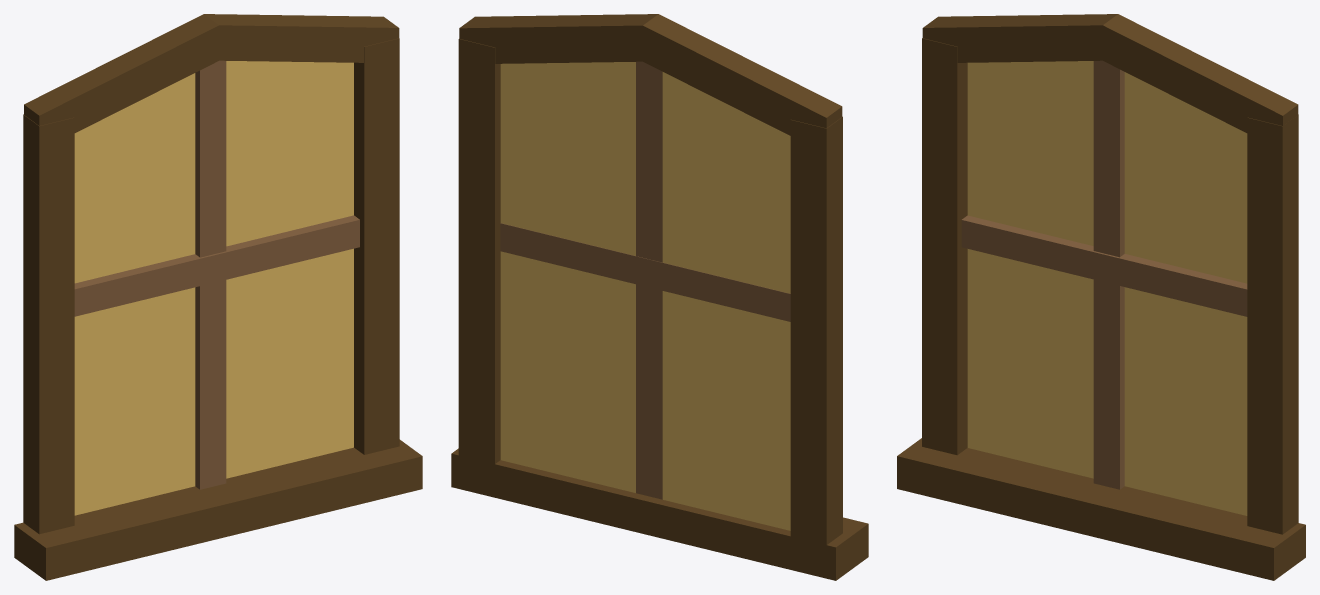
Rendered from Window_04.fbx.
The picture shows the model from 3 angles, left to right: view 1: azimuth 30°, elevation 25°; view 2: azimuth 150°, elevation 25°; view 3: azimuth 330°, elevation 25°; orthographic projection. The views are drawn at different scales.
Visible parts, largest first — view 1: Window_04; view 2: Window_04; view 3: Window_04.
Boxes of the visible parts, x1,y1,x2,y2 form: Window_04: (14,14,422,580); Window_04: (451,14,868,580); Window_04: (897,14,1305,580).
Size of the model in its own units: 1.06 by 1.33 by 0.1554.
